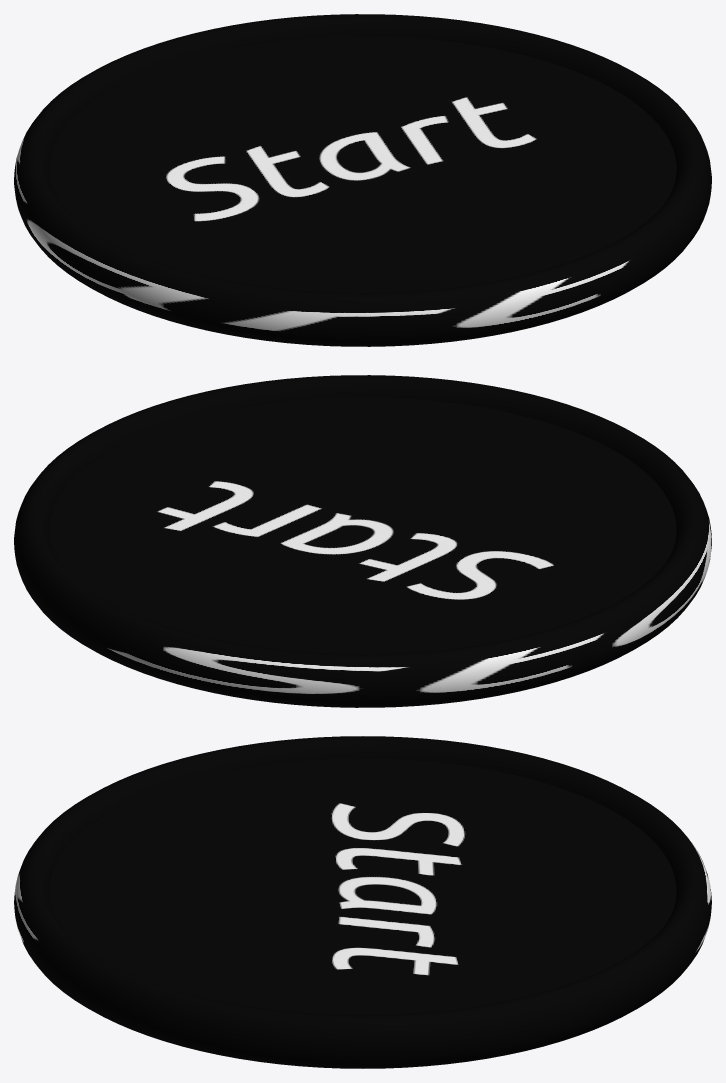
The model's file is Main Menu.fbx.
3 views of the same model, one above another, from view 1: azimuth 30°, elevation 25°; view 2: azimuth 150°, elevation 25°; view 3: azimuth 270°, elevation 25° (orthographic).
Visible parts, largest first — view 1: pCylinder1, pTorus1; view 2: pCylinder1, pTorus1; view 3: pCylinder1, pTorus1.
Boxes of the visible parts, bbox=[...] form: pCylinder1: bbox=[49, 36, 676, 293]; pTorus1: bbox=[14, 14, 711, 346]; pCylinder1: bbox=[49, 397, 676, 654]; pTorus1: bbox=[14, 375, 711, 707]; pCylinder1: bbox=[49, 758, 676, 1015]; pTorus1: bbox=[14, 736, 711, 1068].
Size of the model in its own units: 16.05 by 1.3 by 16.05.
